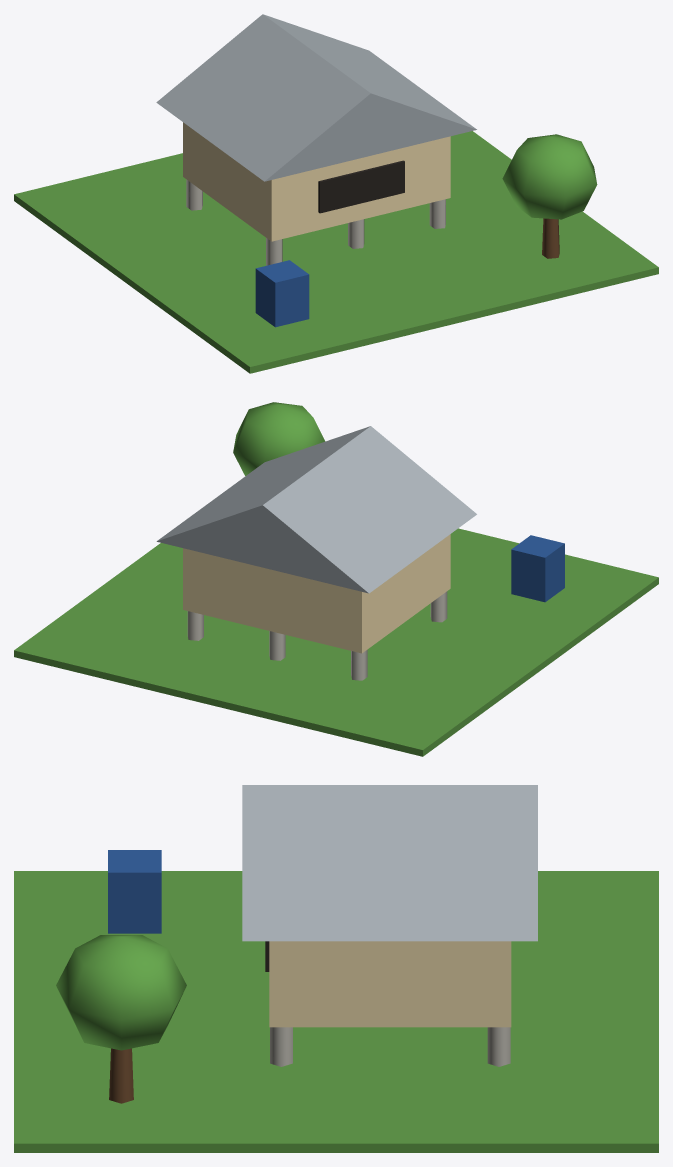
File: zone_R_d1_e3.glb
The picture shows the model from 3 angles, top to bottom: view 1: azimuth 30°, elevation 25°; view 2: azimuth 150°, elevation 25°; view 3: azimuth 270°, elevation 25°; orthographic projection. The views are drawn at different scales.
Visible parts, largest first — view 1: zone_R_d1_e3; view 2: zone_R_d1_e3; view 3: zone_R_d1_e3.
Boxes of the visible parts, box(x1,y1,x2,y2) form: zone_R_d1_e3: box(14, 14, 658, 373); zone_R_d1_e3: box(14, 402, 658, 756); zone_R_d1_e3: box(14, 785, 658, 1152).
Bounding box in the file's own units: 0.96 × 0.38 × 0.96.
